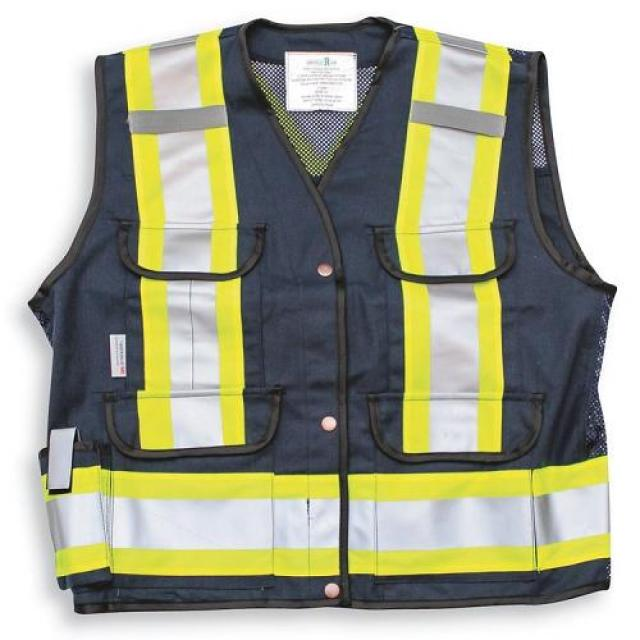Reflective-Jacket: (18, 11, 640, 640)
